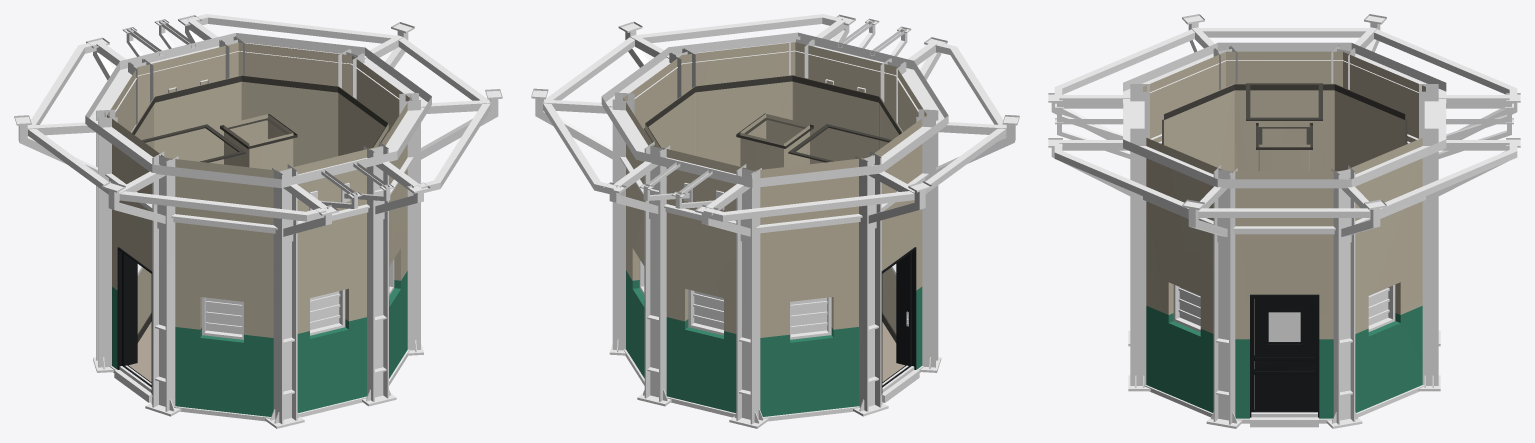
The model's file is SM_H_Building_Tide_MedicalRoom_05_ATLAS.fbx.
The picture shows the model from 3 angles, left to right: view 1: azimuth 30°, elevation 25°; view 2: azimuth 150°, elevation 25°; view 3: azimuth 270°, elevation 25°; orthographic projection.
Parts seen in each view (by area): view 1: SM_H_Building_Tide_MedicalRoom_05_ATLAS; view 2: SM_H_Building_Tide_MedicalRoom_05_ATLAS; view 3: SM_H_Building_Tide_MedicalRoom_05_ATLAS.
Part boxes in pixels (box(x1,y1,x2,y2)): SM_H_Building_Tide_MedicalRoom_05_ATLAS: box(14, 14, 502, 428); SM_H_Building_Tide_MedicalRoom_05_ATLAS: box(531, 14, 1019, 428); SM_H_Building_Tide_MedicalRoom_05_ATLAS: box(1048, 14, 1520, 428).
Bounding box in the file's own units: 890 × 915 × 543.
